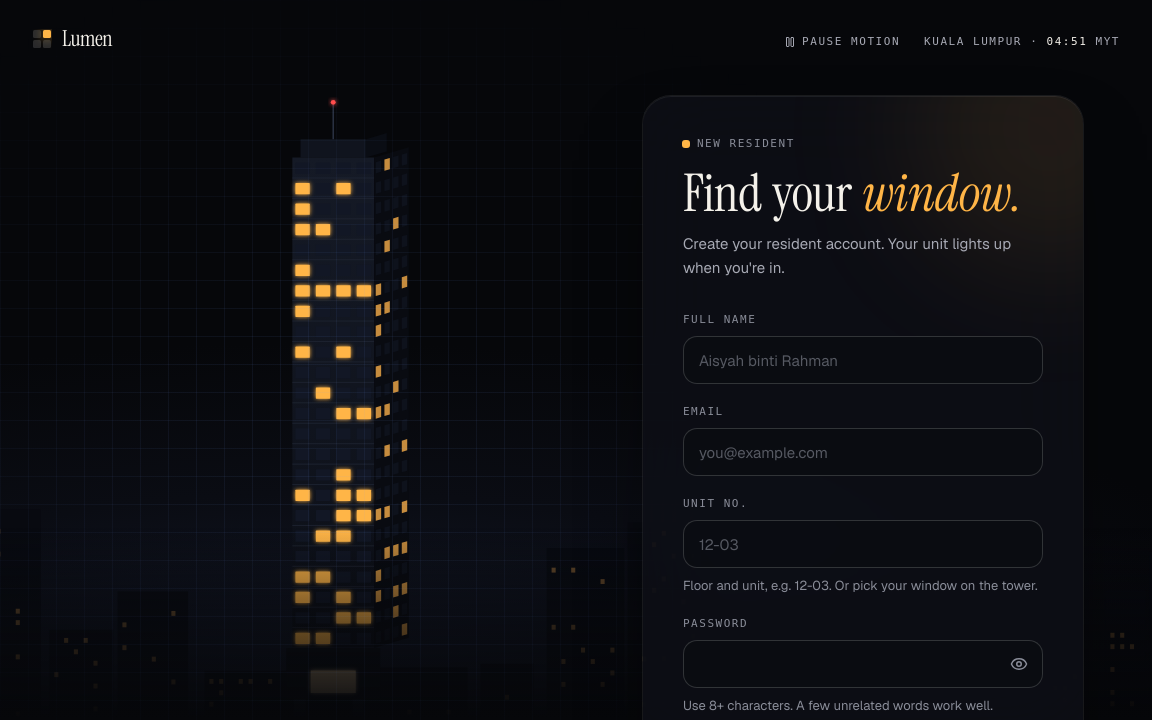
Test: Registration page › masks the unit number and reads it back as floor and unit
In the field labelled "Unit no.": (863, 544) [683,520,1043,568], type "1203"
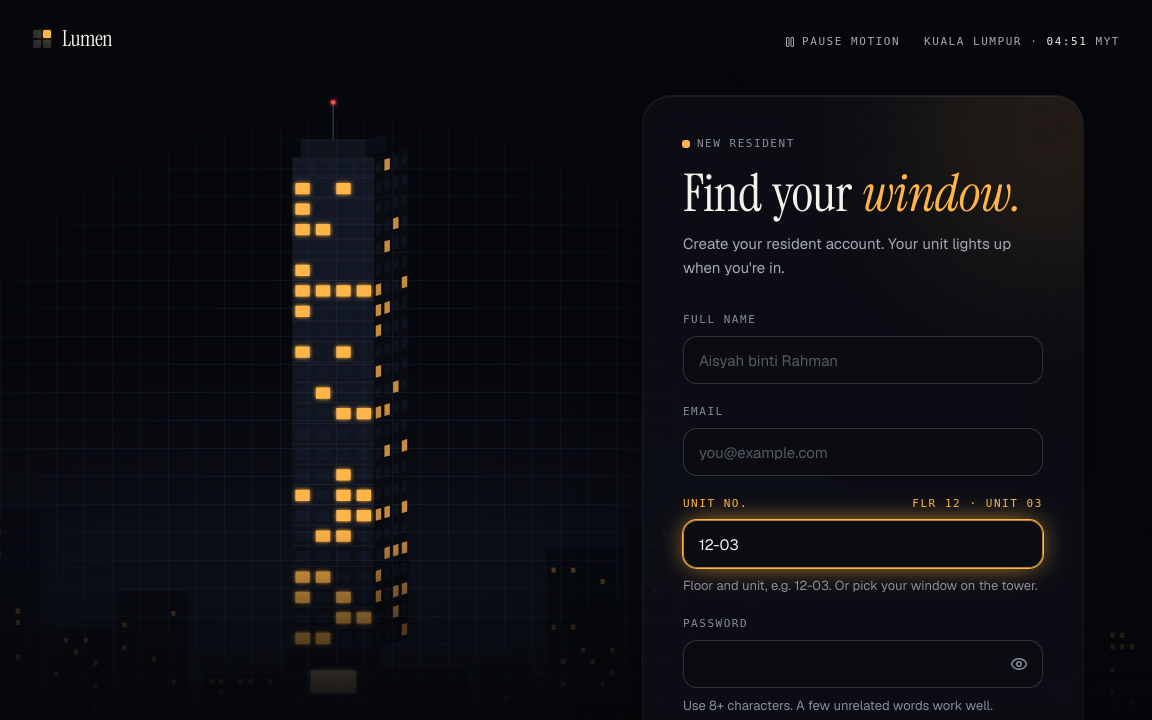
Now the field labelled "Unit no." holds "12-03", box [683,520,1043,568]
Now the text "FLR 12 · UNIT 03" is shown, box [912,496,1043,512]
